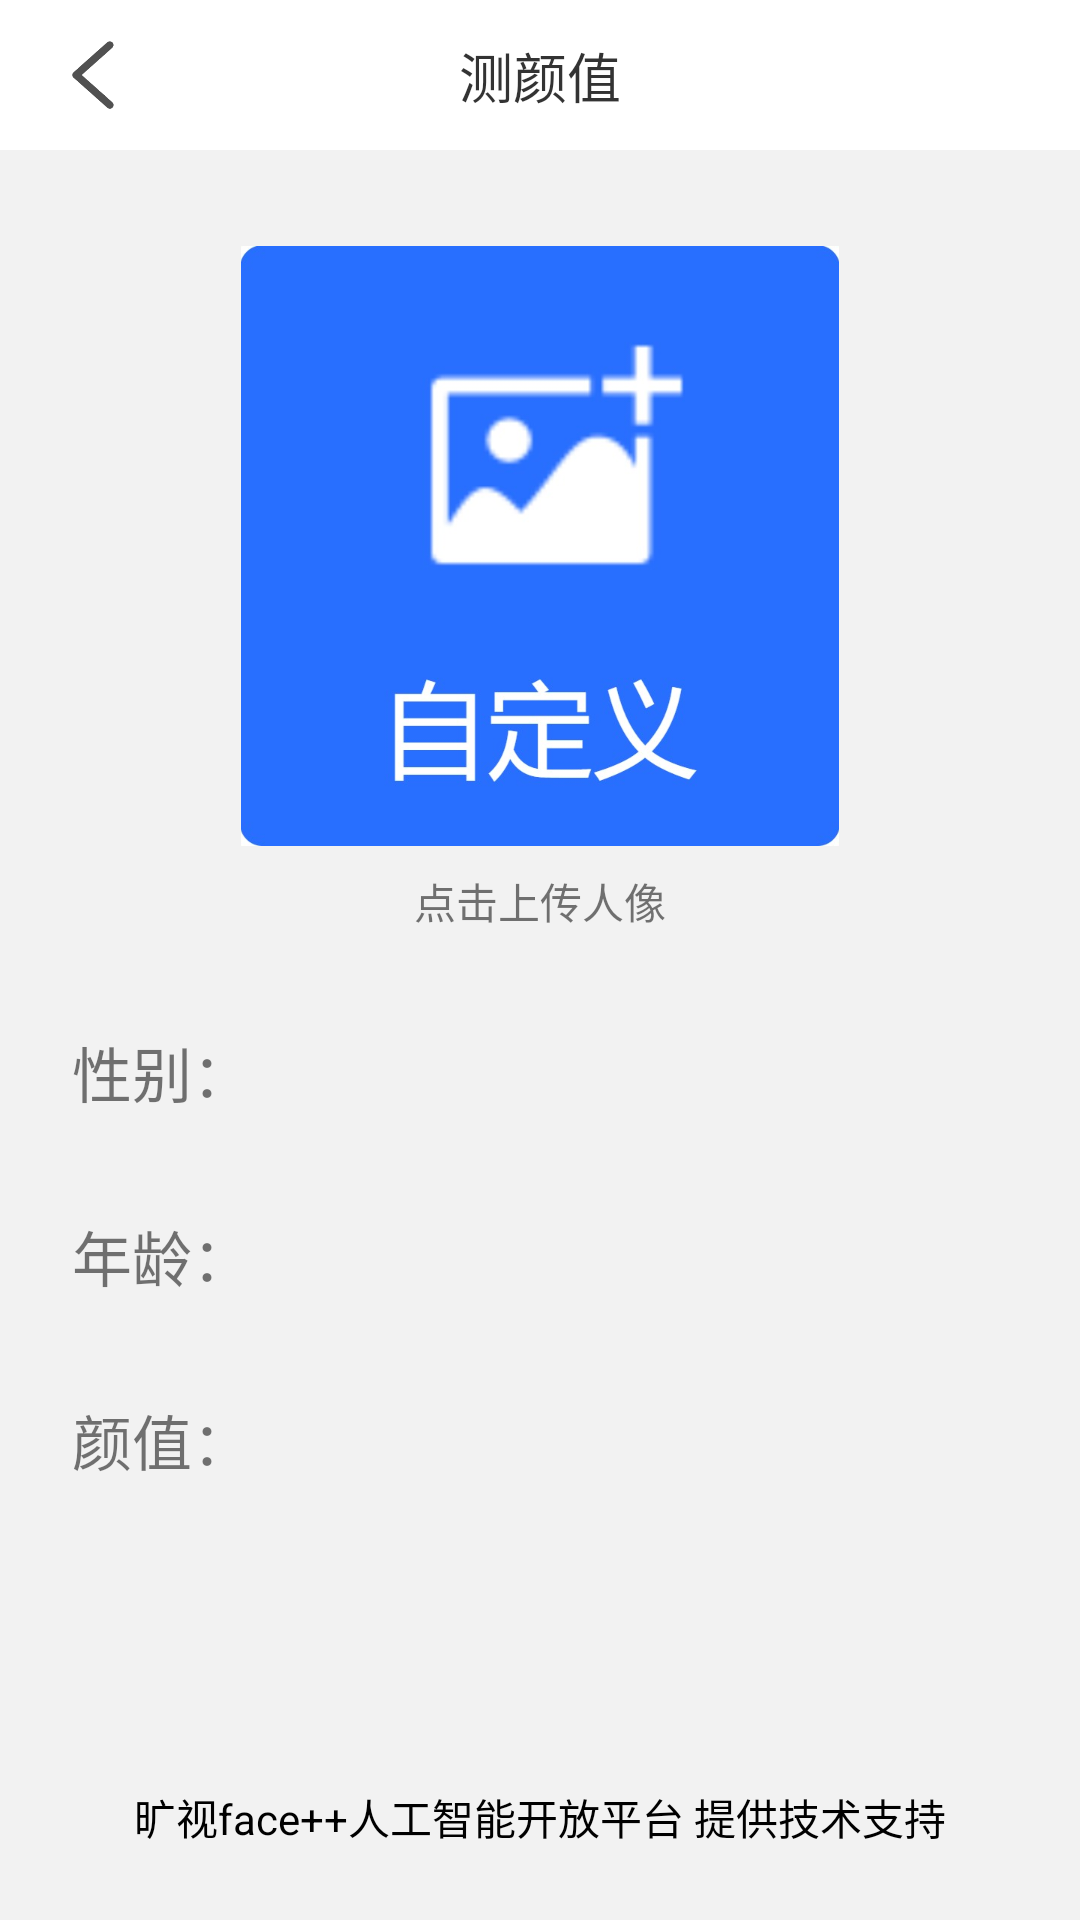

Screen size 1080w x 1920h. Icon name, then its center in pixels as [x,y]:
back: [93,75]
